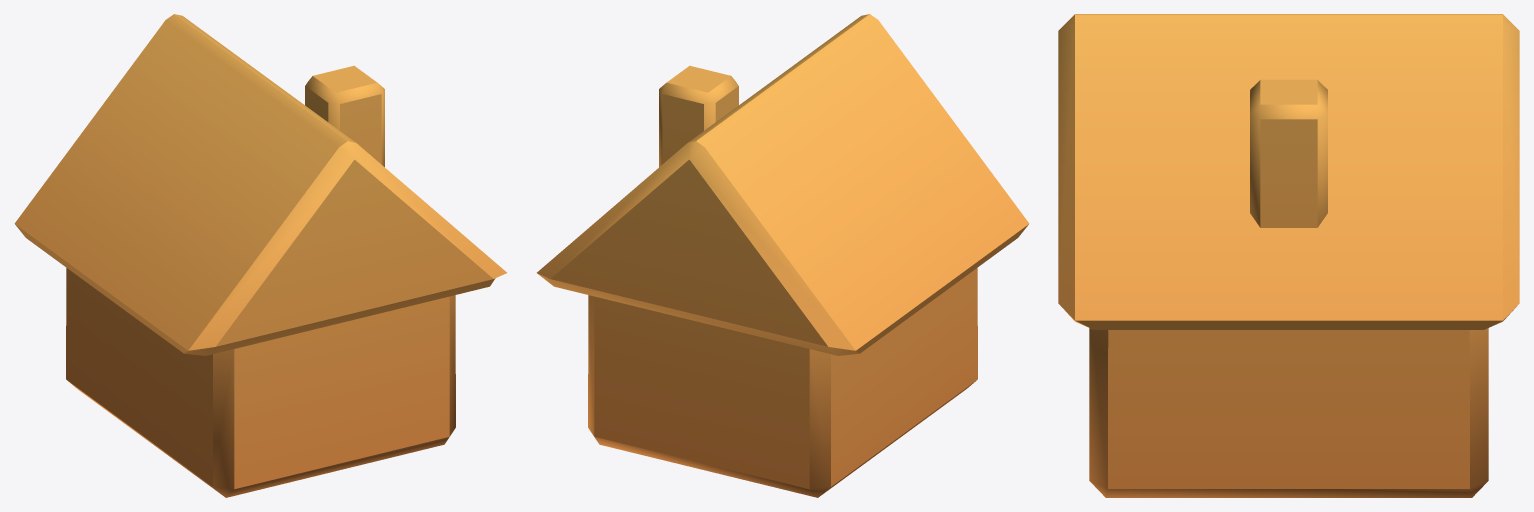
File: building-yellow.glb
The picture shows the model from 3 angles, left to right: view 1: azimuth 30°, elevation 25°; view 2: azimuth 150°, elevation 25°; view 3: azimuth 270°, elevation 25°; orthographic projection. The views are drawn at different scales.
Visible parts, largest first — view 1: building_yellow; view 2: building_yellow; view 3: building_yellow.
Part boxes in pixels (x1=…): building_yellow: x1=14, y1=14, x2=506, y2=497; building_yellow: x1=537, y1=14, x2=1029, y2=497; building_yellow: x1=1058, y1=14, x2=1519, y2=497.
Bounding box in the file's own units: 0.9847 × 1 × 1.
1 material, 1 textured.
